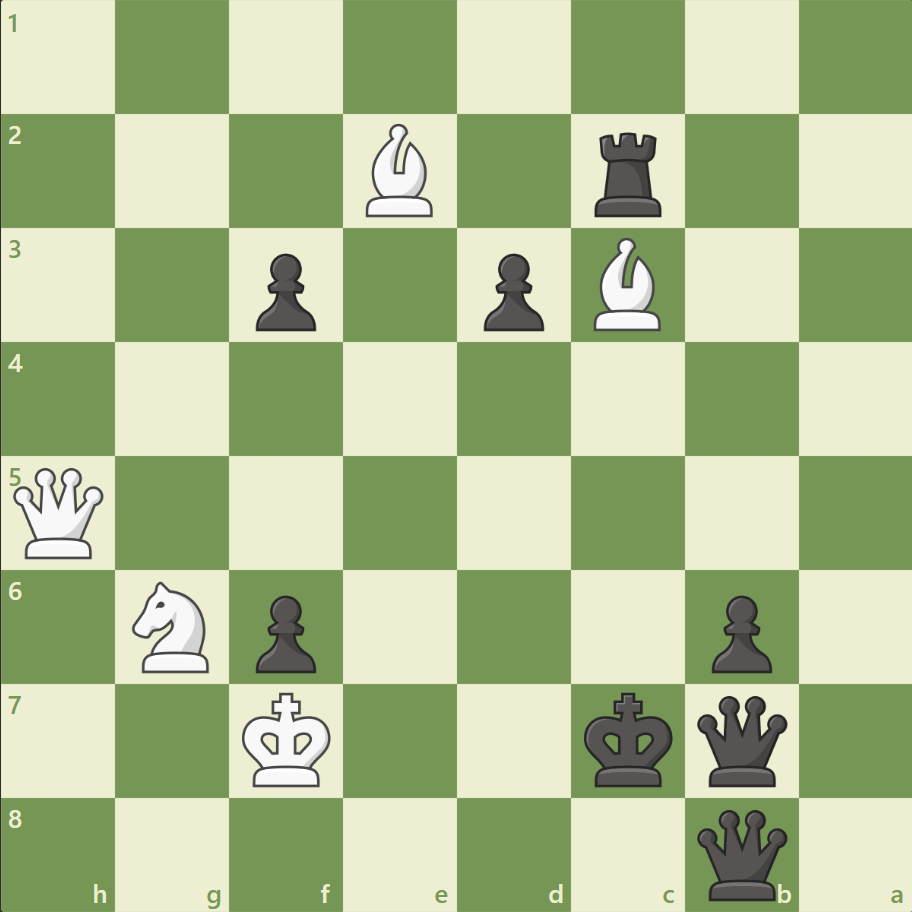B: (585, 233, 669, 336), (358, 120, 442, 222)
K: (238, 685, 338, 793)
N: (124, 575, 222, 677)
Q: (10, 463, 109, 562)
k: (579, 685, 679, 793)
p: (701, 586, 776, 677), (247, 586, 322, 677), (474, 246, 549, 337), (247, 246, 322, 337)
q: (691, 804, 790, 903), (691, 690, 790, 789)
r: (587, 125, 670, 222)
